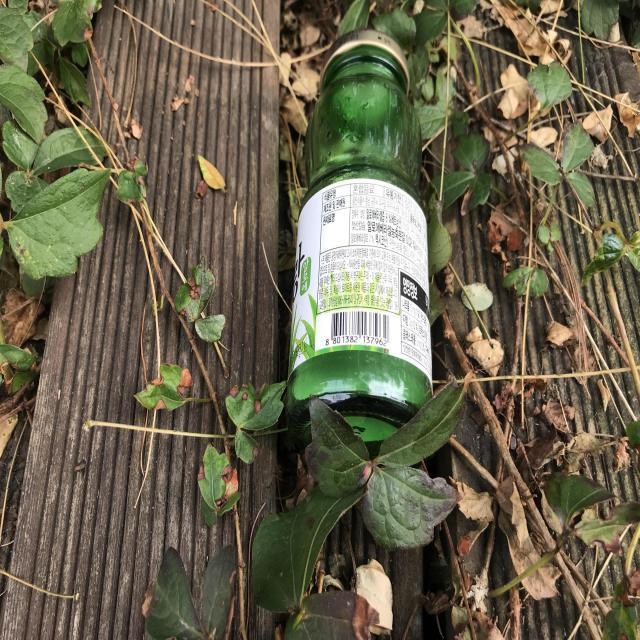glass: (287, 29, 432, 452)
